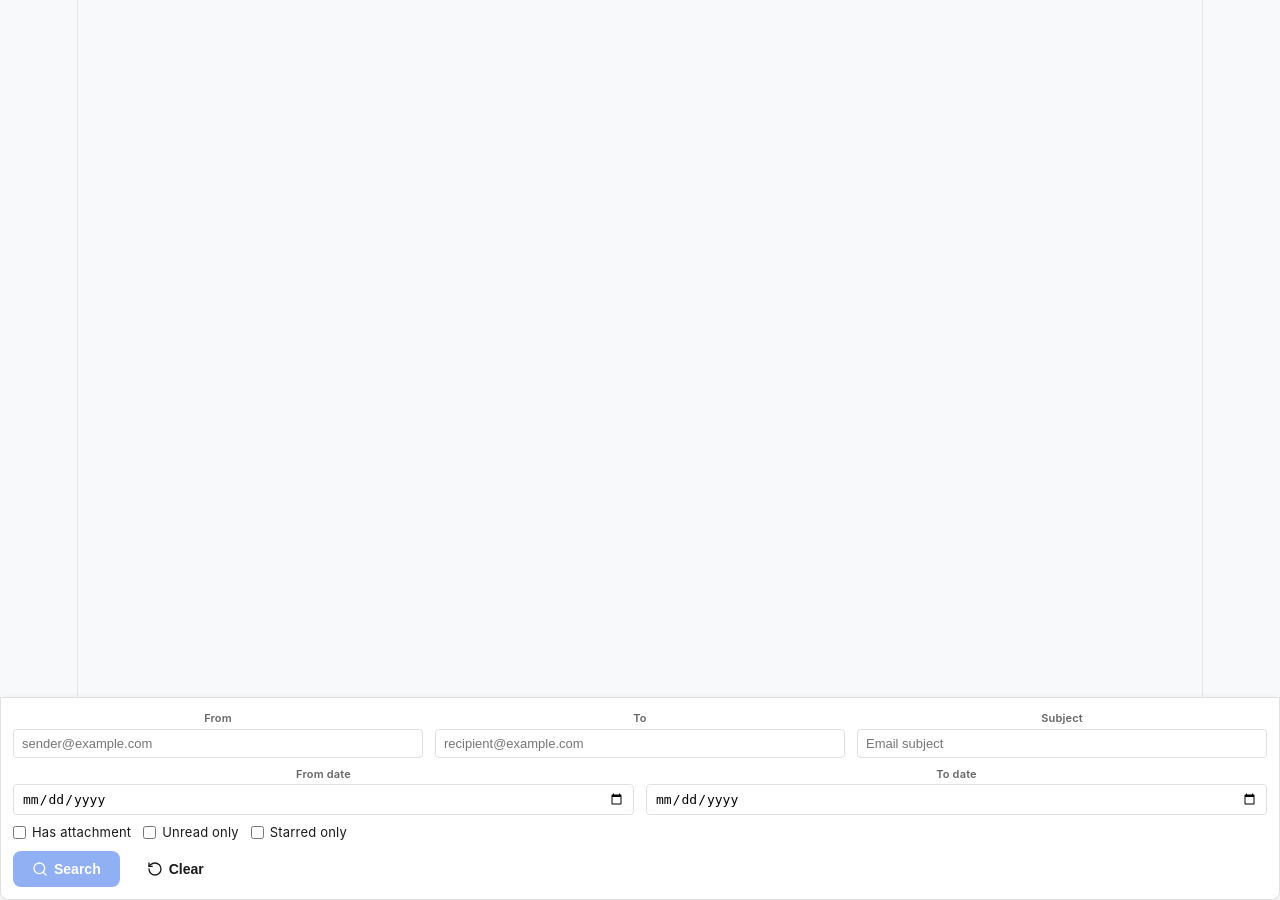
Test: AdvancedSearch › search button is enabled when a filter is set even without query
The width and height of the screenshot is (1280, 900).
(page scrolled)
Click the checkbox with test id "filter-has-attachment" at (20, 833), box [13, 826, 26, 839]
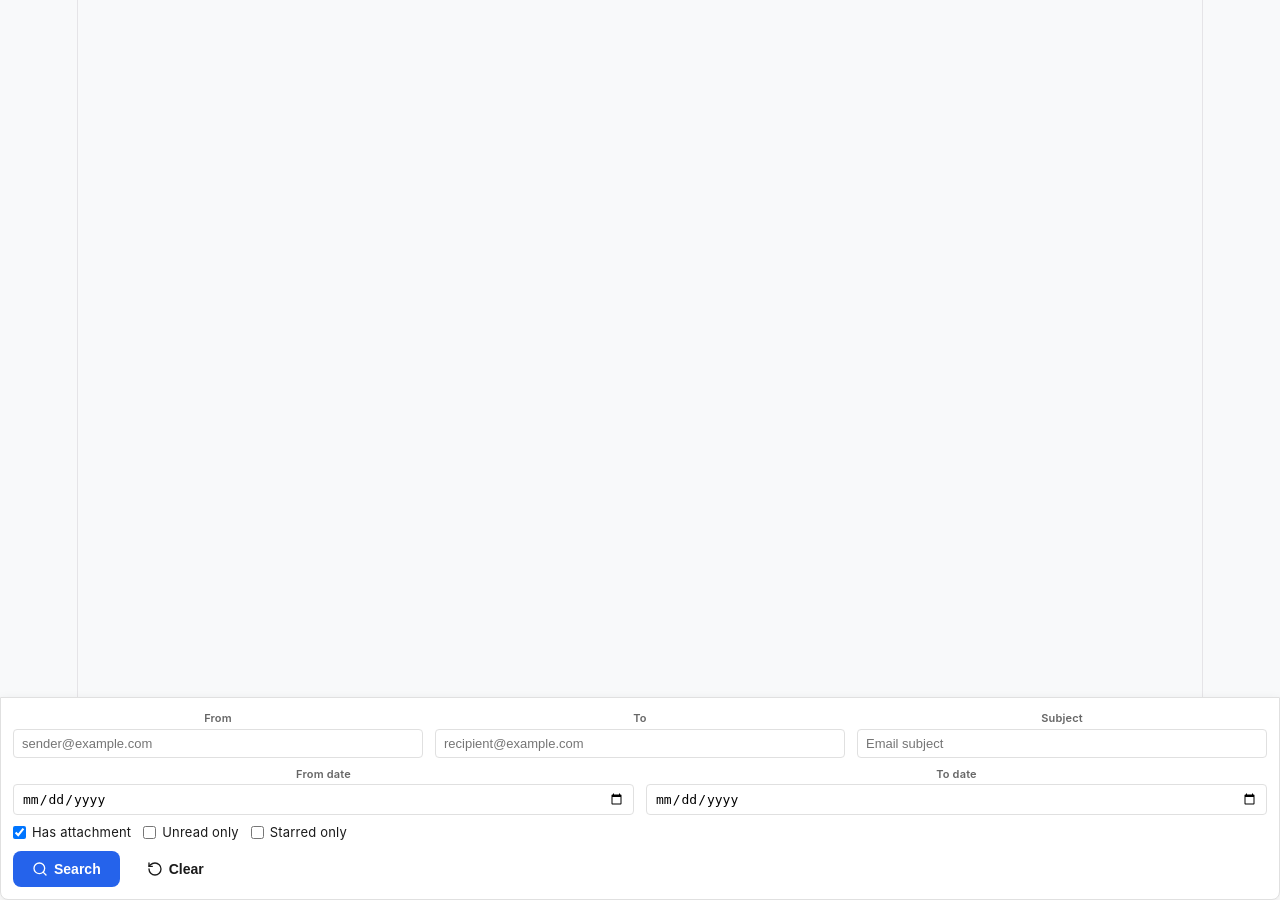
Now the button with test id "advanced-search-submit" is enabled, box [13, 850, 120, 886]
